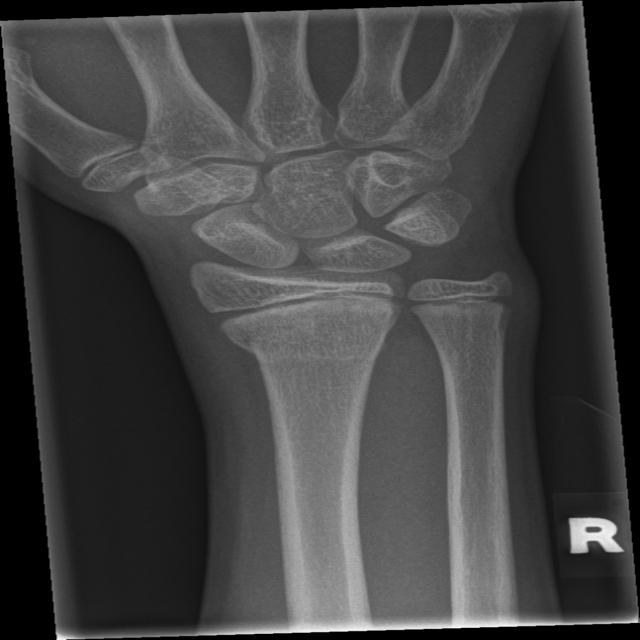radius fracture: (199, 324, 403, 409)
